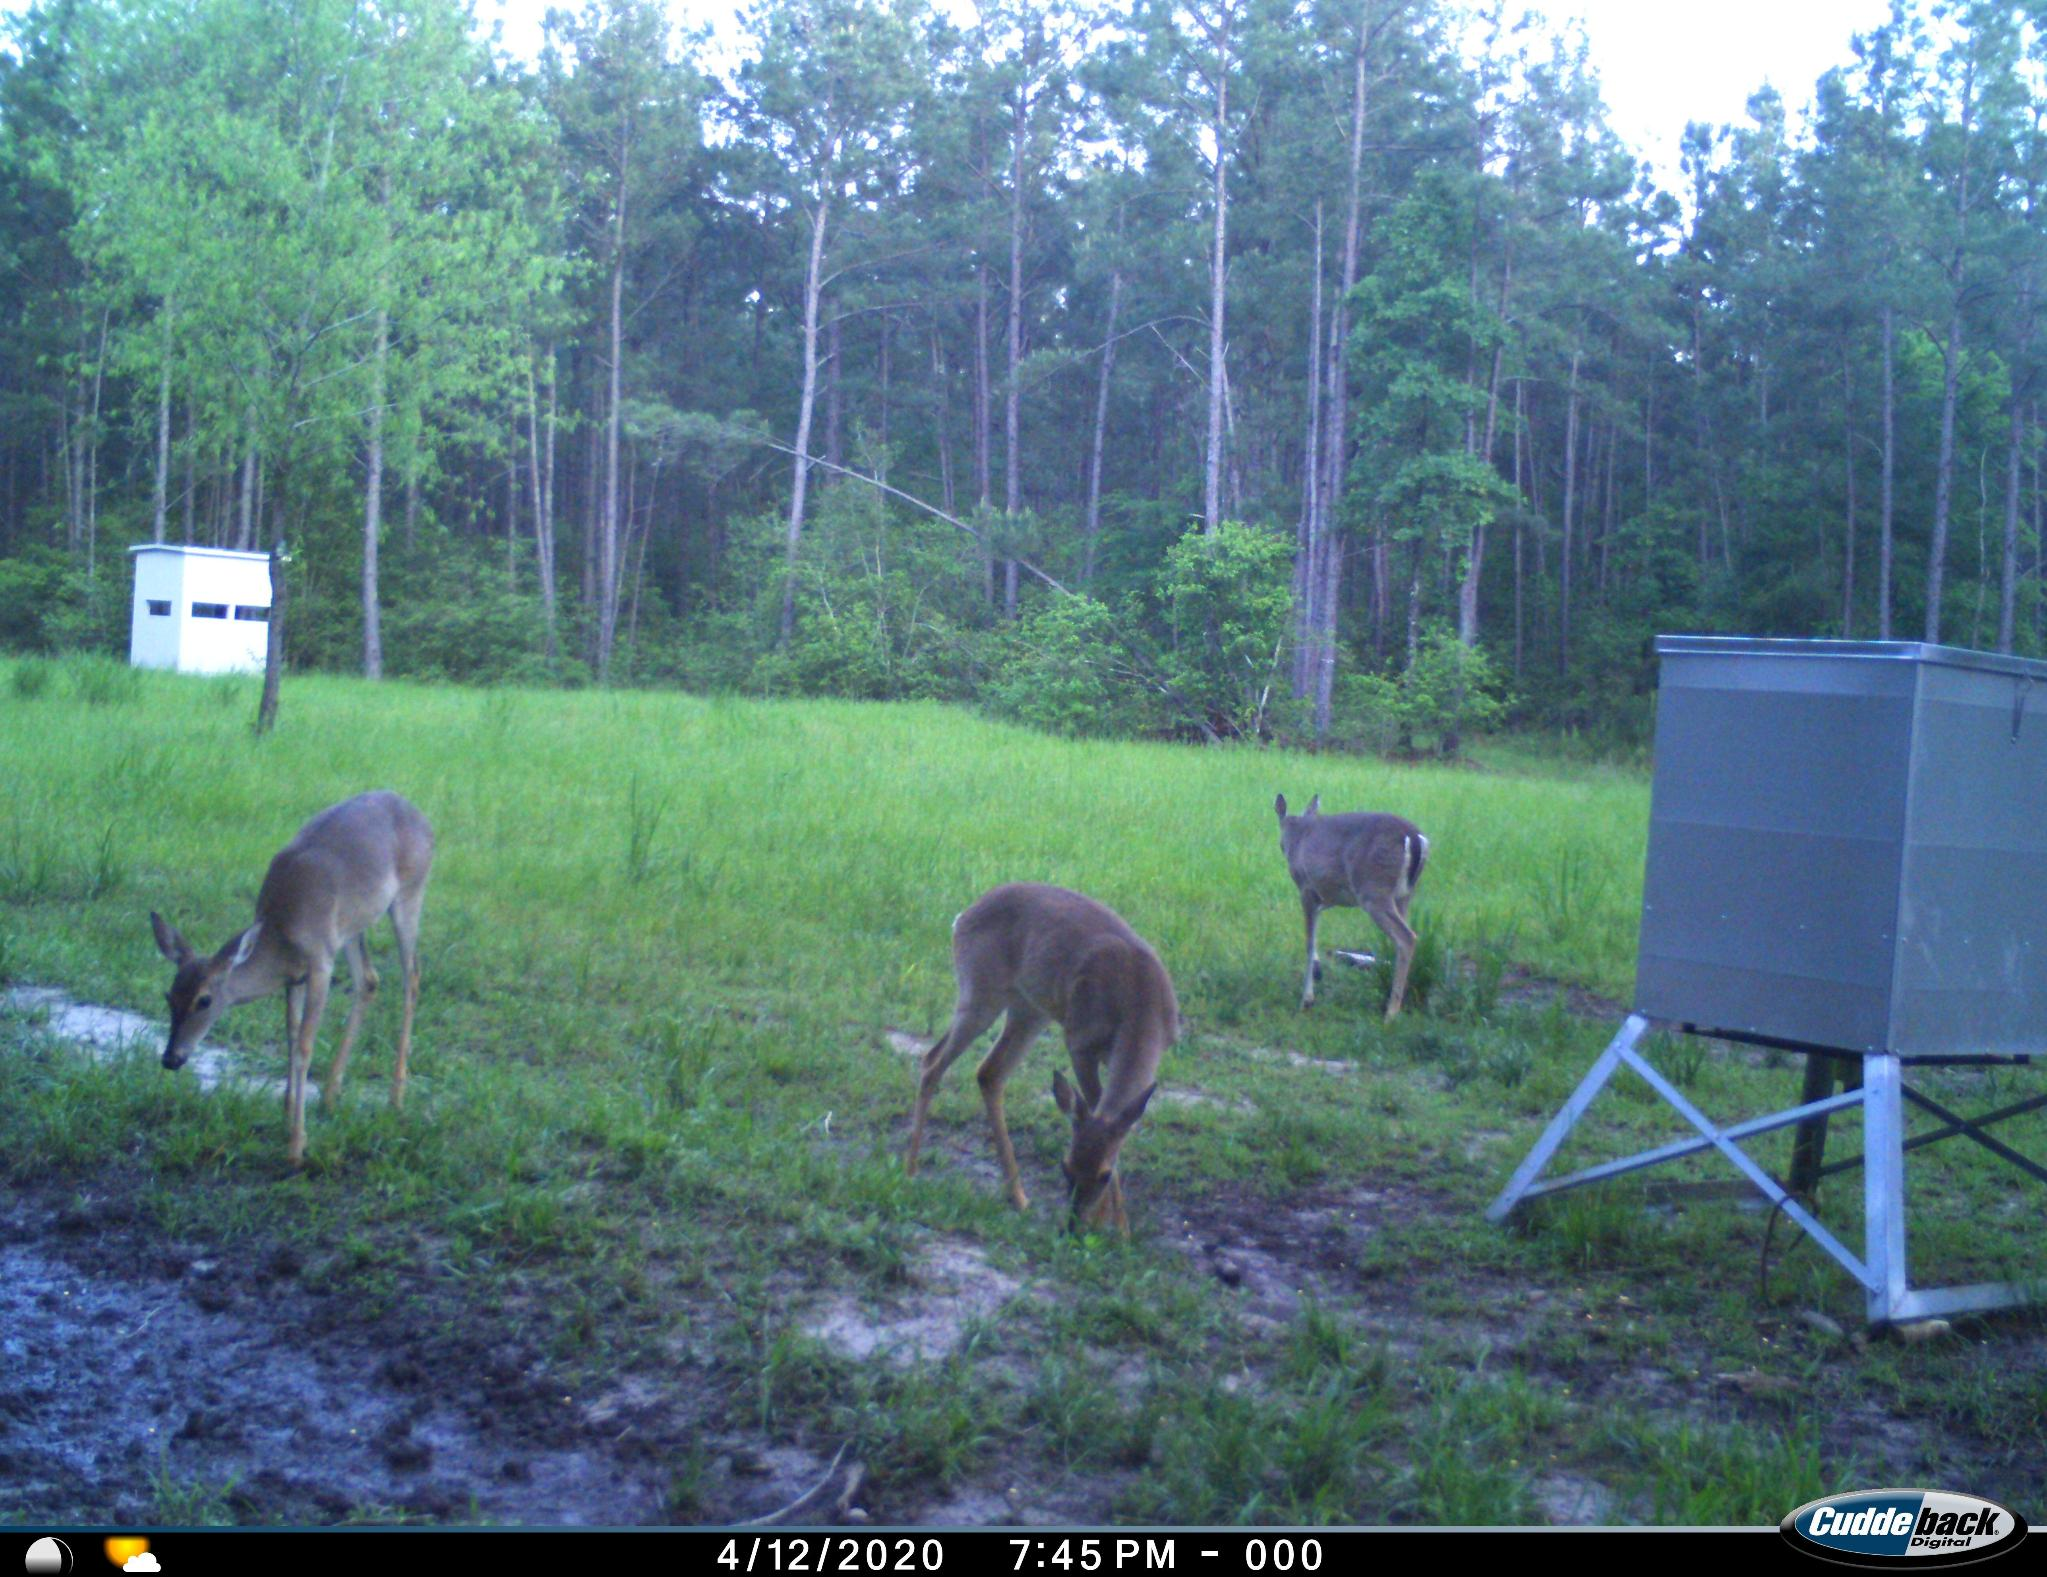Deer: (139, 774, 455, 1176), (893, 871, 1191, 1254), (1264, 785, 1454, 1027)
